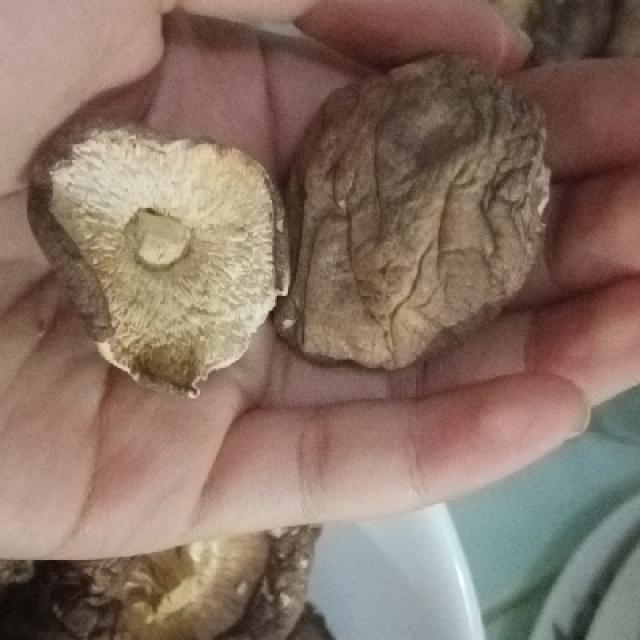Lentinus edodes: (276, 59, 554, 372), (29, 118, 294, 397)
